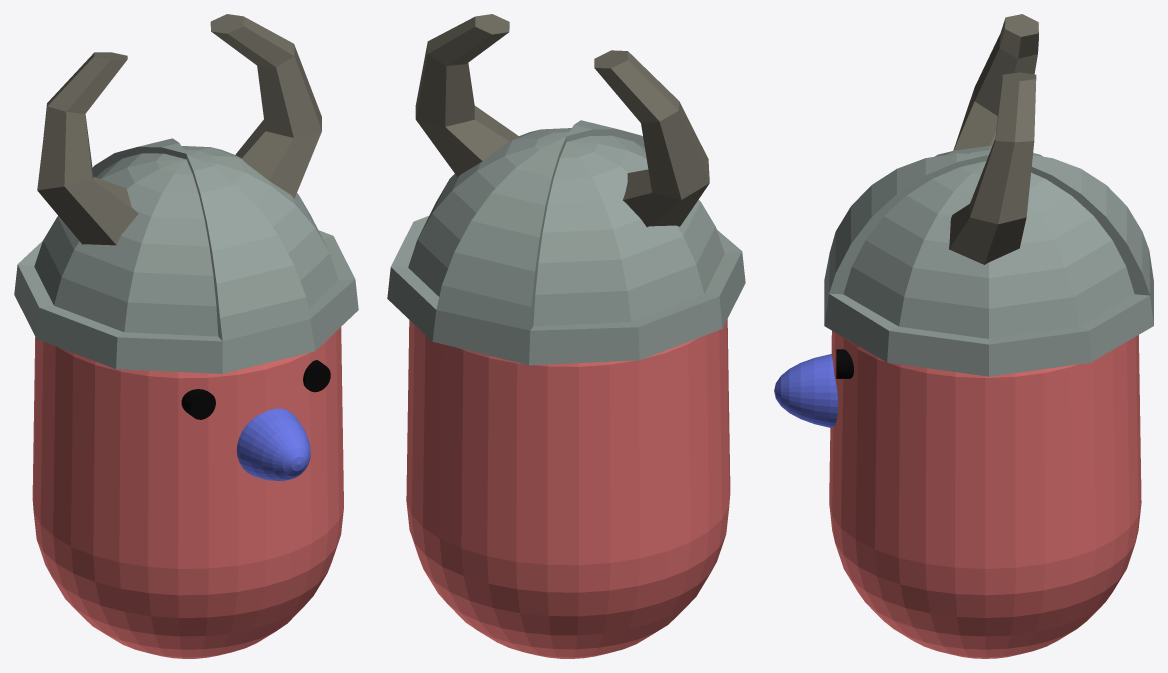
Rendered from BarbarMerged.fbx.
3 views of the same model, side by side, from view 1: azimuth 30°, elevation 25°; view 2: azimuth 150°, elevation 25°; view 3: azimuth 270°, elevation 25° (orthographic). The views are drawn at different scales.
Visible parts, largest first — view 1: BarbarMerged; view 2: BarbarMerged; view 3: BarbarMerged.
Boxes of the visible parts, x1=… form: BarbarMerged: x1=14, y1=14, x2=358, y2=658; BarbarMerged: x1=387, y1=14, x2=745, y2=658; BarbarMerged: x1=774, y1=14, x2=1153, y2=658.
Size of the model in its own units: 222 by 423 by 243.
